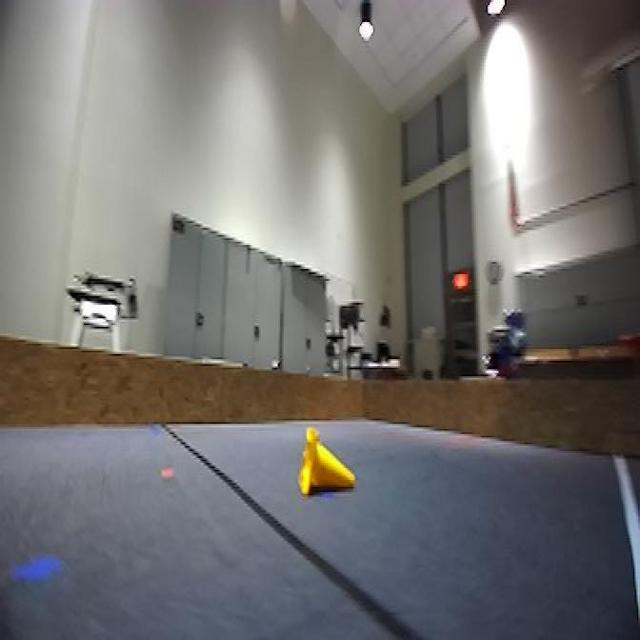frc_cone: (295, 434, 349, 506)
